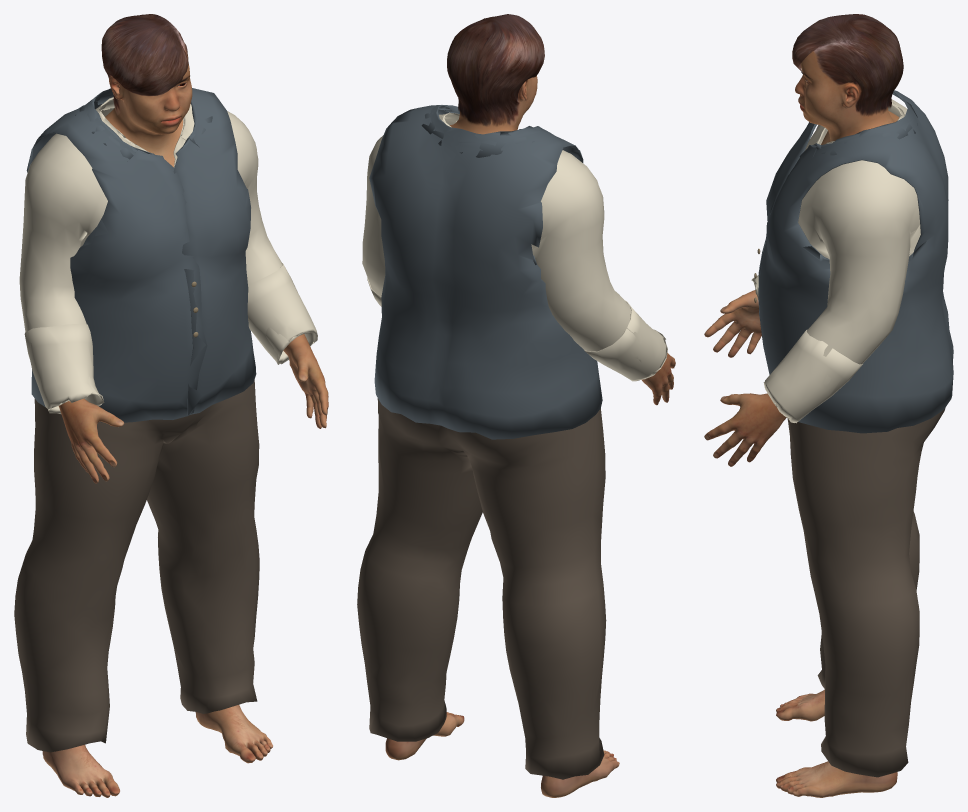
File: record_clerk.glb
3 renders of one model, left to right at view 1: azimuth 30°, elevation 25°; view 2: azimuth 150°, elevation 25°; view 3: azimuth 270°, elevation 25°, orthographic.
Visible parts, largest first — view 1: Clerk full length trousers_static_preview, Clerk buttoned sleeveless waistcoat_static_preview, Fitted cotton upper base_static_preview, record_clerk_MakeHuman_body_static_preview, Farmer_hair_static_preview; view 2: Clerk full length trousers_static_preview, Clerk buttoned sleeveless waistcoat_static_preview, Fitted cotton upper base_static_preview, Farmer_hair_static_preview, record_clerk_MakeHuman_body_static_preview; view 3: Clerk full length trousers_static_preview, Clerk buttoned sleeveless waistcoat_static_preview, Fitted cotton upper base_static_preview, record_clerk_MakeHuman_body_static_preview, Farmer_hair_static_preview.
Part boxes in pixels (x1=…): Clerk full length trousers_static_preview: x1=14, y1=380, x2=259, y2=752; Clerk buttoned sleeveless waistcoat_static_preview: x1=26, y1=88, x2=256, y2=422; Fitted cotton upper base_static_preview: x1=19, y1=97, x2=317, y2=413; record_clerk_MakeHuman_body_static_preview: x1=42, y1=50, x2=328, y2=797; Farmer_hair_static_preview: x1=101, y1=14, x2=188, y2=114; Clerk full length trousers_static_preview: x1=357, y1=398, x2=606, y2=779; Clerk buttoned sleeveless waistcoat_static_preview: x1=369, y1=105, x2=602, y2=439; Fitted cotton upper base_static_preview: x1=362, y1=112, x2=667, y2=381; Farmer_hair_static_preview: x1=447, y1=14, x2=544, y2=126; record_clerk_MakeHuman_body_static_preview: x1=385, y1=75, x2=675, y2=797; Clerk full length trousers_static_preview: x1=787, y1=408, x2=945, y2=777; Clerk buttoned sleeveless waistcoat_static_preview: x1=758, y1=90, x2=953, y2=433; Fitted cotton upper base_static_preview: x1=751, y1=99, x2=920, y2=423; record_clerk_MakeHuman_body_static_preview: x1=704, y1=51, x2=899, y2=797; Farmer_hair_static_preview: x1=792, y1=14, x2=903, y2=116.
Size of the model in its own units: 0.6306 by 1.65 by 0.5091.
Materials: 9 (4 with a texture image).
